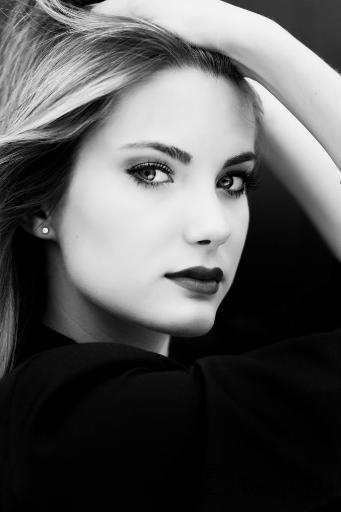left_eye: (216, 170, 250, 199)
left_lip_corner: (216, 277, 227, 291)
right_eye: (124, 162, 177, 193)
right_lip_corner: (160, 268, 184, 290)
